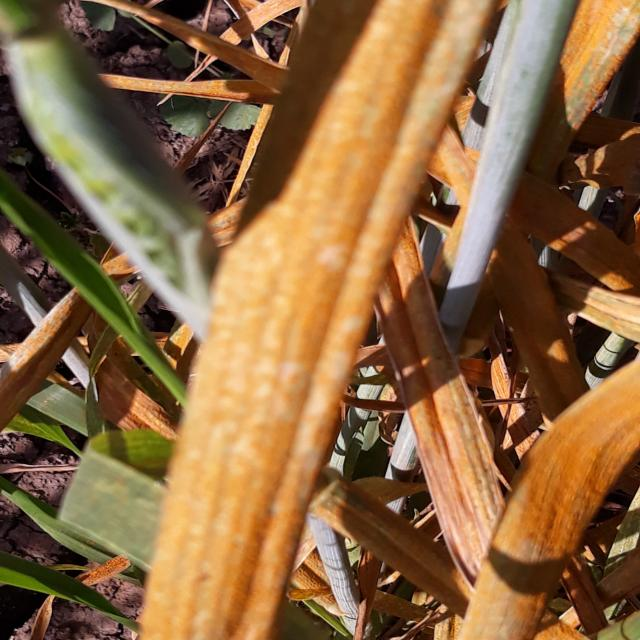yellow_rust: (130, 0, 504, 640), (483, 0, 640, 389), (45, 0, 306, 220), (473, 395, 640, 634), (0, 291, 79, 431), (91, 355, 165, 447), (84, 239, 144, 296), (27, 581, 66, 640), (83, 547, 122, 591)
